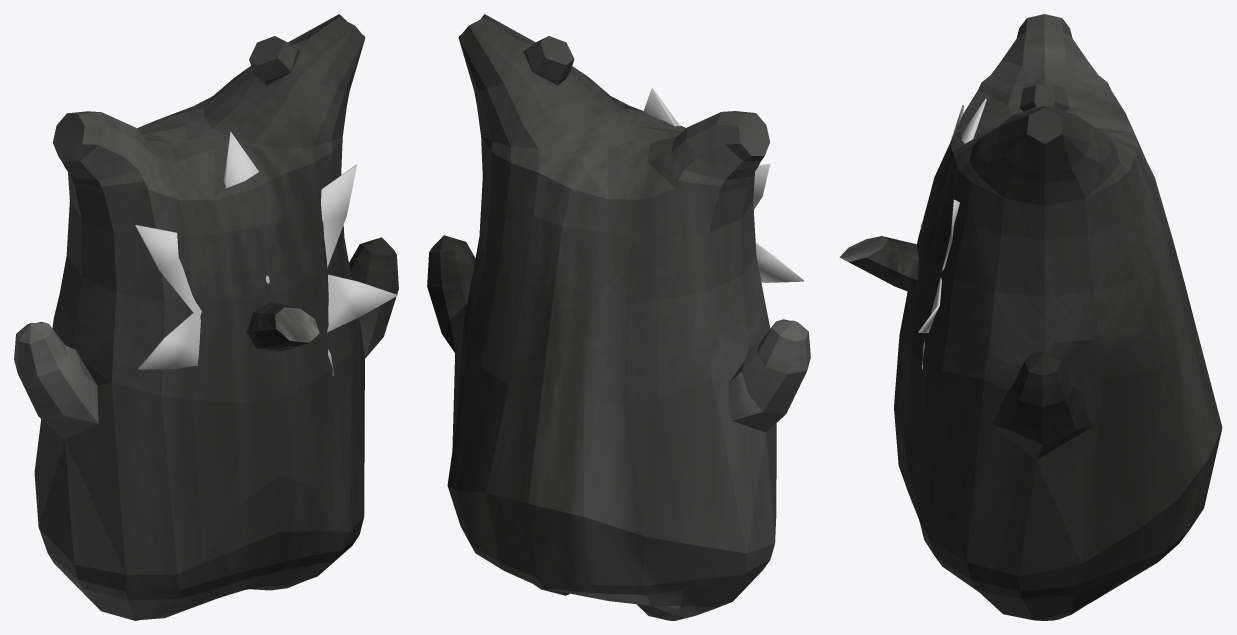
The model's file is frame_0062.obj.
The picture shows the model from 3 angles, left to right: view 1: azimuth 30°, elevation 25°; view 2: azimuth 150°, elevation 25°; view 3: azimuth 270°, elevation 25°; orthographic projection.
Visible parts, largest first — view 1: korok, leaf.003_柱体.013, nose.003_柱体.011; view 2: korok, leaf.003_柱体.013; view 3: korok, nose.003_柱体.011, leaf.003_柱体.013.
Part boxes in pixels (x1,y1,x2,y2): korok: [14, 14, 398, 620]; leaf.003_柱体.013: [135, 132, 398, 376]; nose.003_柱体.011: [247, 302, 319, 351]; korok: [427, 14, 810, 620]; leaf.003_柱体.013: [643, 88, 803, 282]; korok: [894, 14, 1222, 620]; nose.003_柱体.011: [839, 236, 918, 293]; leaf.003_柱体.013: [918, 99, 986, 369].
Size of the model in its own units: 1.53 by 2.14 by 1.36.
